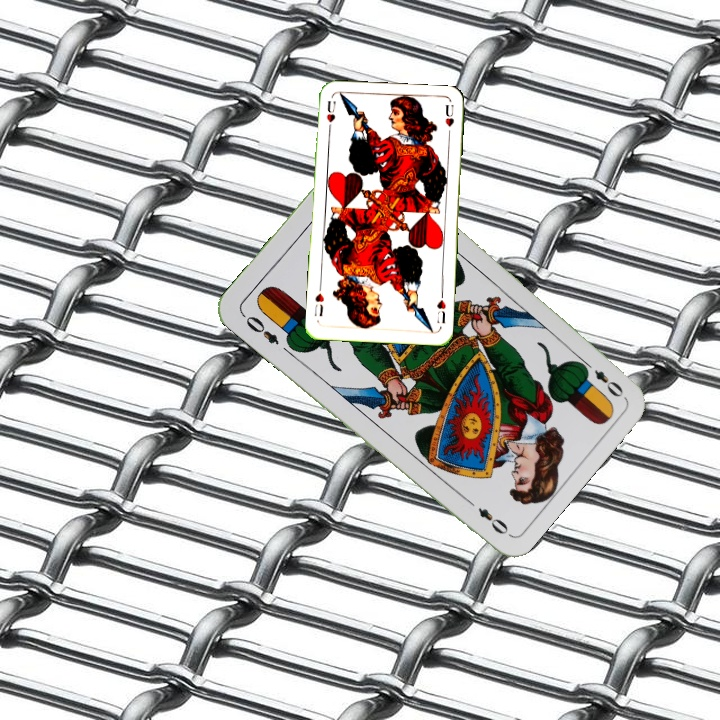EO: (577, 355, 626, 400), (238, 309, 282, 347)
HU: (322, 96, 338, 135), (433, 289, 448, 326)
